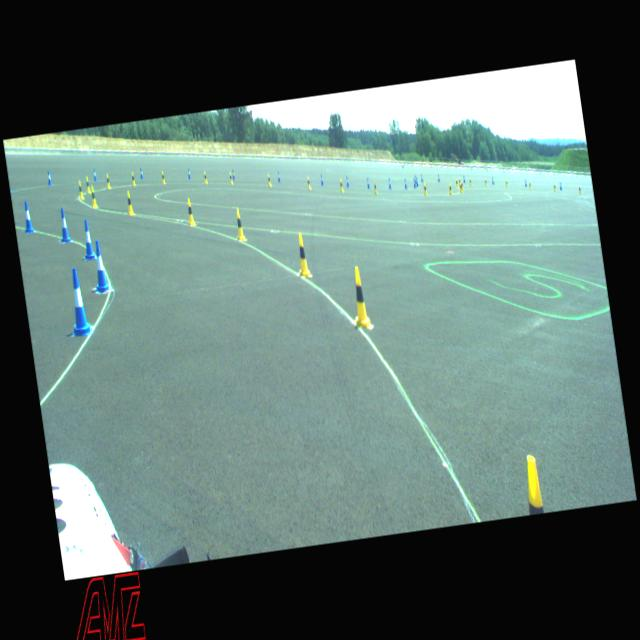blue_cone: (62, 266, 94, 340), (90, 239, 114, 294), (79, 218, 97, 260), (56, 206, 71, 242), (20, 198, 34, 234), (46, 170, 53, 186), (92, 168, 98, 182), (139, 167, 145, 180), (187, 167, 192, 180), (387, 178, 392, 190), (366, 177, 371, 189), (412, 178, 417, 188), (346, 176, 350, 188), (276, 170, 280, 182), (320, 174, 324, 186), (232, 168, 236, 180), (416, 176, 420, 188), (404, 178, 408, 189), (524, 178, 528, 188), (559, 180, 562, 190), (414, 174, 417, 184), (492, 176, 495, 185), (463, 174, 466, 183), (420, 174, 423, 182), (438, 174, 440, 182)
yellow_cone: (348, 266, 373, 332), (521, 454, 545, 516), (294, 232, 312, 280), (233, 207, 247, 242), (184, 197, 196, 227), (125, 190, 135, 216), (89, 185, 98, 209), (76, 178, 85, 200), (85, 176, 92, 193), (105, 172, 111, 190), (372, 180, 378, 195), (306, 176, 312, 189), (131, 171, 136, 186), (228, 172, 234, 184), (161, 170, 166, 184), (339, 178, 344, 192), (448, 182, 453, 195), (203, 171, 208, 184), (423, 182, 428, 195), (267, 174, 272, 186), (459, 182, 463, 194), (578, 183, 582, 194), (484, 177, 488, 187), (528, 180, 532, 190), (455, 178, 459, 188), (468, 177, 472, 186), (458, 176, 462, 185), (461, 180, 464, 191), (554, 182, 556, 192), (506, 178, 508, 188)
